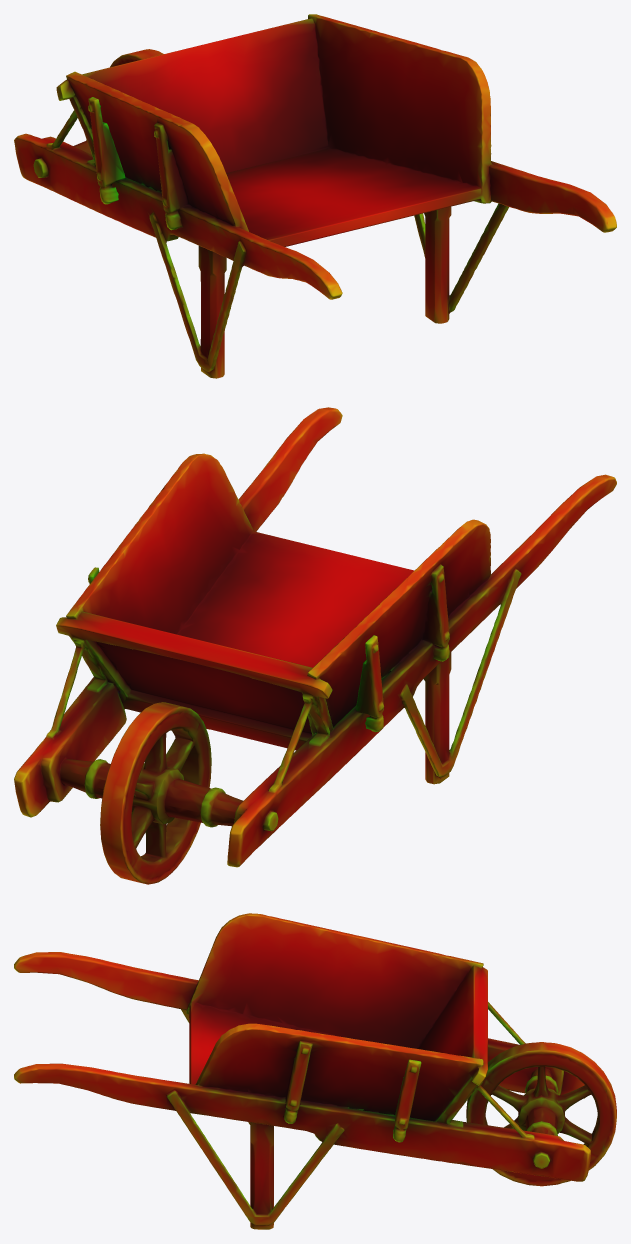
File: Wheelbarrow.fbx
3 renders of one model, top to bottom at view 1: azimuth 30°, elevation 25°; view 2: azimuth 150°, elevation 25°; view 3: azimuth 270°, elevation 25°, orthographic. The views are drawn at different scales.
Parts seen in each view (by area): view 1: transform1; view 2: transform1; view 3: transform1.
Boxes of the visible parts, x1=… form: transform1: x1=14, y1=14, x2=616, y2=378; transform1: x1=14, y1=407, x2=616, y2=884; transform1: x1=14, y1=913, x2=616, y2=1229.
Bounding box in the file's own units: 128 × 280 × 109.
